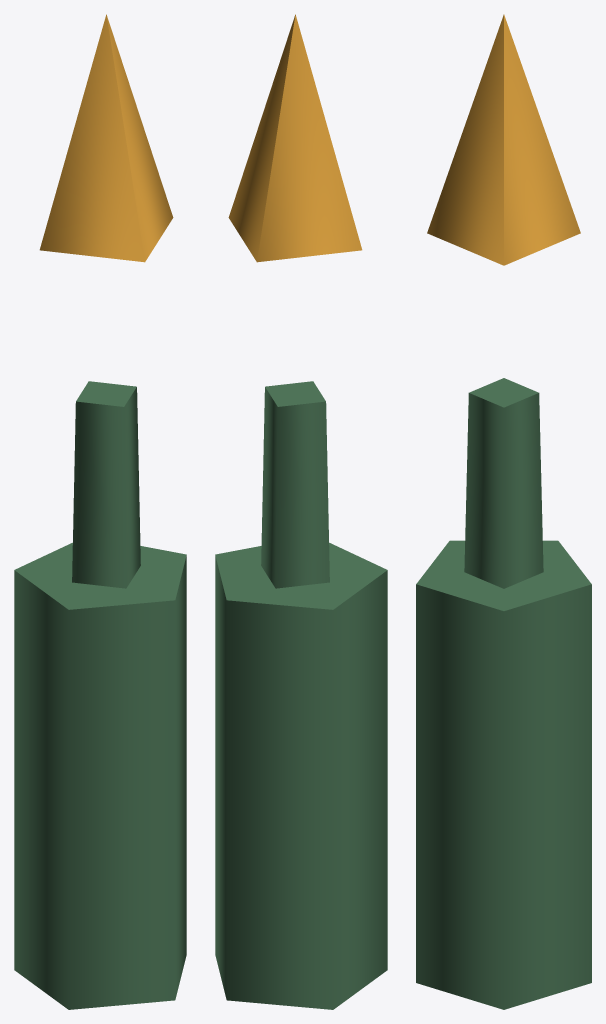
3 views of the same model, side by side, from view 1: azimuth 30°, elevation 25°; view 2: azimuth 150°, elevation 25°; view 3: azimuth 270°, elevation 25° (orthographic).
Visible parts, largest first — view 1: raider_weapon_molotov; view 2: raider_weapon_molotov; view 3: raider_weapon_molotov.
Part boxes in pixels (x1,y1,x2,y2): raider_weapon_molotov: (14,14,186,1009); raider_weapon_molotov: (215,14,387,1009); raider_weapon_molotov: (416,14,591,1009).
Size of the model in its own units: 0.077 by 0.48 by 0.0799.
